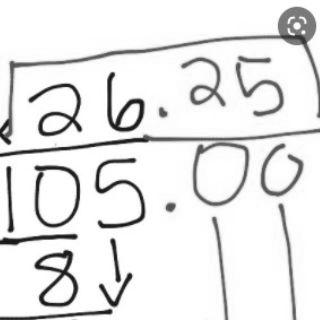.: (154, 102, 172, 120), (162, 198, 179, 216)
0: (192, 139, 251, 208), (31, 160, 81, 229), (259, 143, 305, 199)
1: (5, 163, 17, 235)
2: (23, 81, 86, 138), (176, 53, 231, 110)
5: (93, 155, 150, 231), (232, 49, 290, 119)
6: (98, 69, 146, 134)
8: (33, 244, 80, 312)
